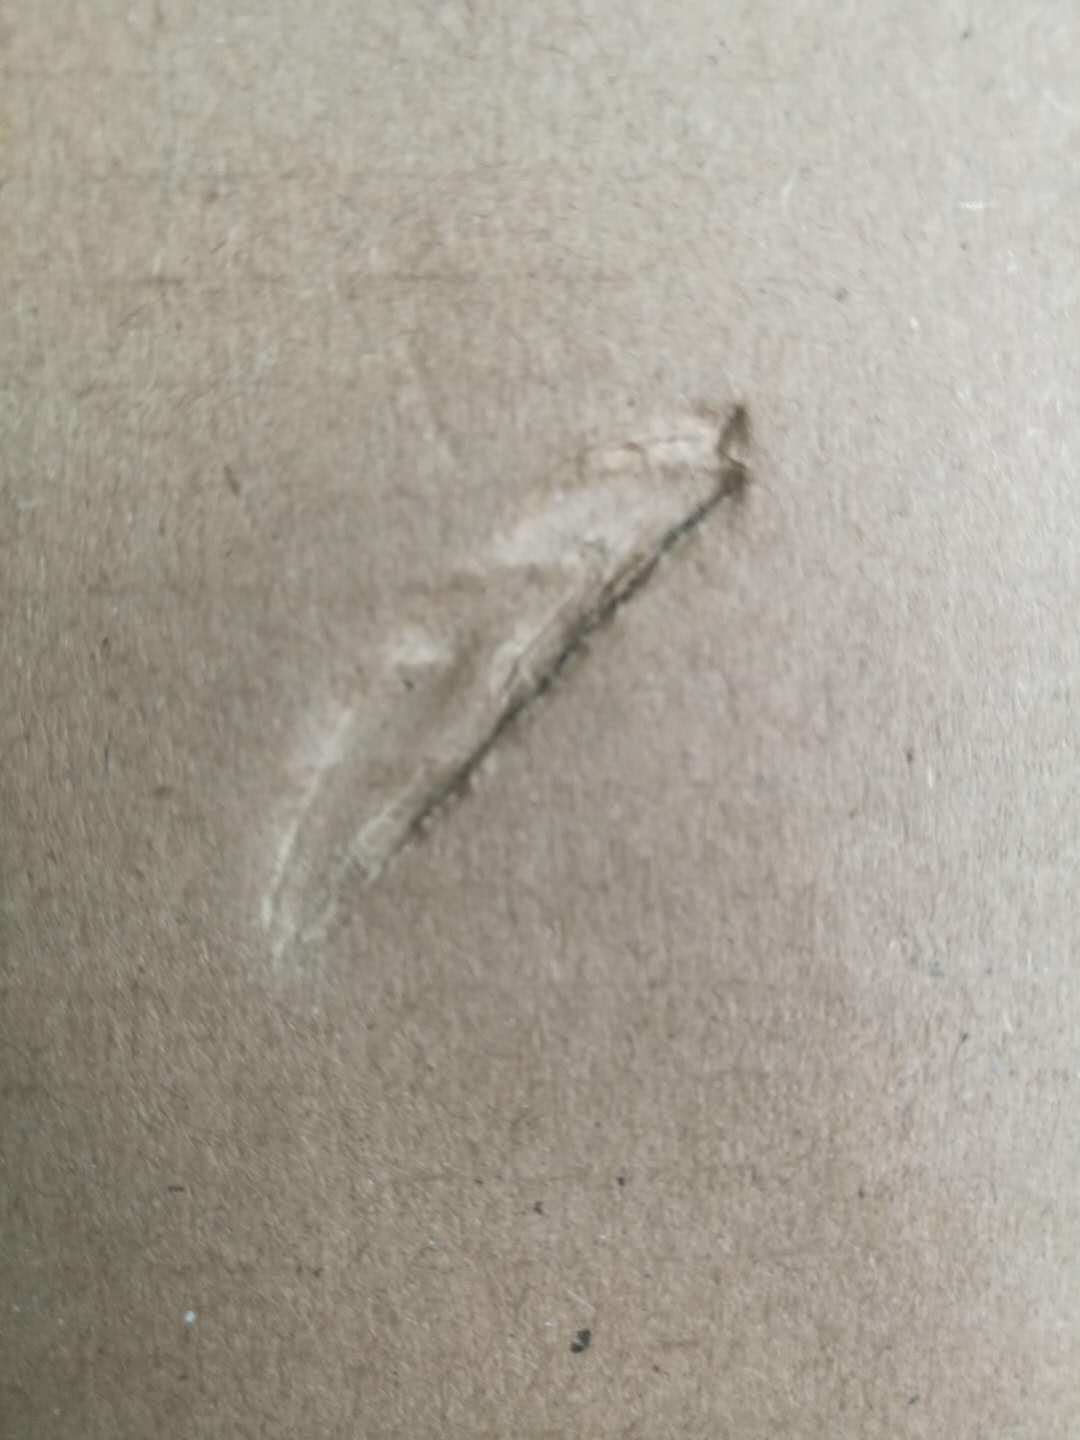defect: (195, 325, 812, 1018)
